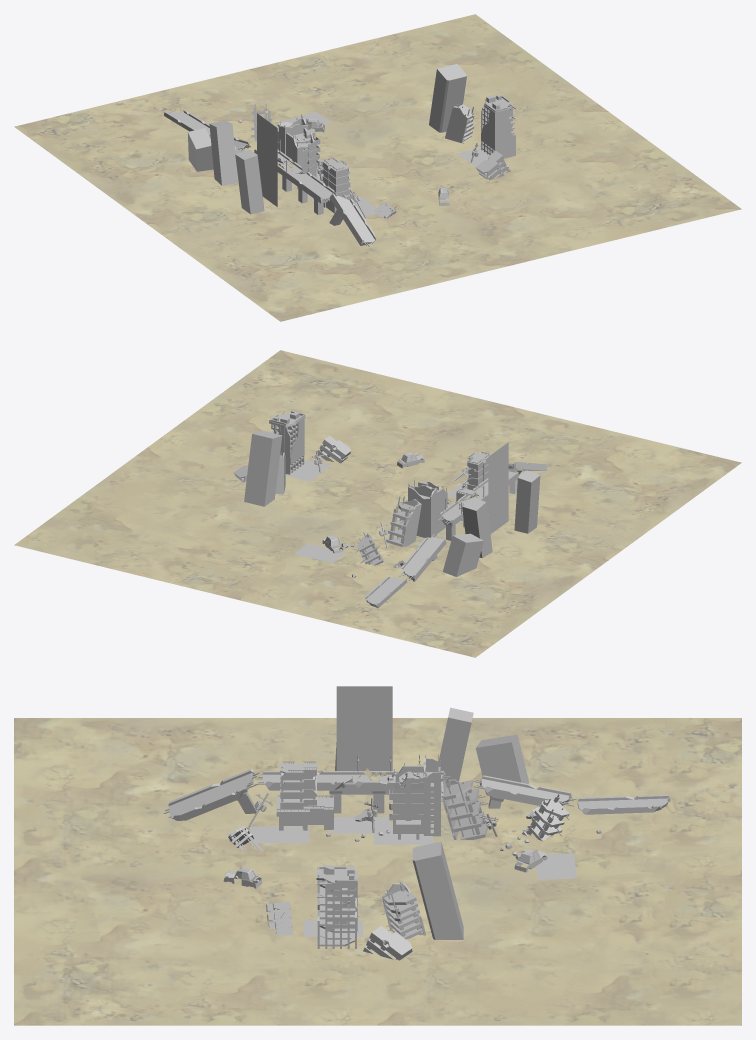
File: Stage_1004_obj_01.fbx
The picture shows the model from 3 angles, top to bottom: view 1: azimuth 30°, elevation 25°; view 2: azimuth 150°, elevation 25°; view 3: azimuth 270°, elevation 25°; orthographic projection. The views are drawn at different scales.
Parts seen in each view (by area): view 1: Plane, Cube.266, Cube.104, Cube.223, Stage_1004_Tex_26, Cube, Cube.003, Cube.318, Cube.017, Cube.101, Cube.094, Cube.170 (+2 smaller); view 2: Plane, Cube.104, Stage_1004_Tex_26, Cube.223, Cube.266, Cube.003, Cube.094, Cube.086, Cube, Cube.051, Cube.027, Cube.017 (+5 smaller); view 3: Plane, Stage_1004_Tex_26, Cube.223, Cube.266, Cube.104, Cube.017, Cube.318, Cube.086, Cube.094, Cube.051, Cube.170, Cube (+10 smaller).
Part boxes in pixels (left/top/right/bottom): Plane: left=14, top=14, right=741, bottom=321; Cube.266: left=481, top=94, right=516, bottom=158; Cube.104: left=429, top=64, right=466, bottom=132; Cube.223: left=278, top=114, right=323, bottom=177; Stage_1004_Tex_26: left=257, top=113, right=277, bottom=206; Cube: left=209, top=120, right=237, bottom=185; Cube.003: left=235, top=150, right=264, bottom=214; Cube.318: left=329, top=192, right=375, bottom=246; Cube.017: left=313, top=157, right=355, bottom=213; Cube.101: left=287, top=172, right=335, bottom=214; Cube.094: left=187, top=128, right=213, bottom=171; Cube.170: left=445, top=104, right=474, bottom=143; Plane: left=14, top=350, right=741, bottom=657; Cube.104: left=244, top=431, right=282, bottom=506; Stage_1004_Tex_26: left=488, top=442, right=508, bottom=534; Cube.223: left=408, top=480, right=447, bottom=537; Cube.266: left=269, top=411, right=305, bottom=474; Cube.003: left=514, top=470, right=540, bottom=533; Cube.094: left=442, top=533, right=483, bottom=576; Cube.086: left=386, top=496, right=421, bottom=546; Cube: left=462, top=497, right=492, bottom=558; Cube.051: left=399, top=534, right=446, bottom=581; Cube.027: left=365, top=493, right=485, bottom=607; Cube.017: left=456, top=451, right=490, bottom=501; Plane: left=14, top=718, right=741, bottom=1025; Stage_1004_Tex_26: left=336, top=686, right=392, bottom=794; Cube.223: left=389, top=754, right=440, bottom=839; Cube.266: left=316, top=865, right=357, bottom=948; Cube.104: left=412, top=841, right=463, bottom=939; Cube.017: left=276, top=761, right=333, bottom=830; Cube.318: left=163, top=769, right=539, bottom=820; Cube.086: left=441, top=776, right=492, bottom=839; Cube.094: left=475, top=734, right=528, bottom=783; Cube.051: left=473, top=775, right=576, bottom=808; Cube.170: left=377, top=881, right=425, bottom=939; Cube: left=438, top=707, right=473, bottom=791.
Size of the model in its own units: 1286 by 289 by 1286.
